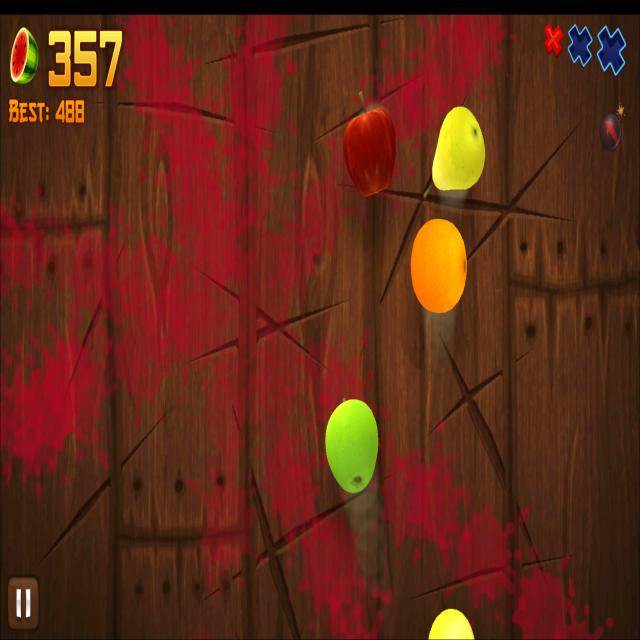fruit: (410, 217, 469, 314), (325, 399, 379, 494), (342, 107, 395, 197), (432, 106, 486, 191), (428, 608, 474, 640)
